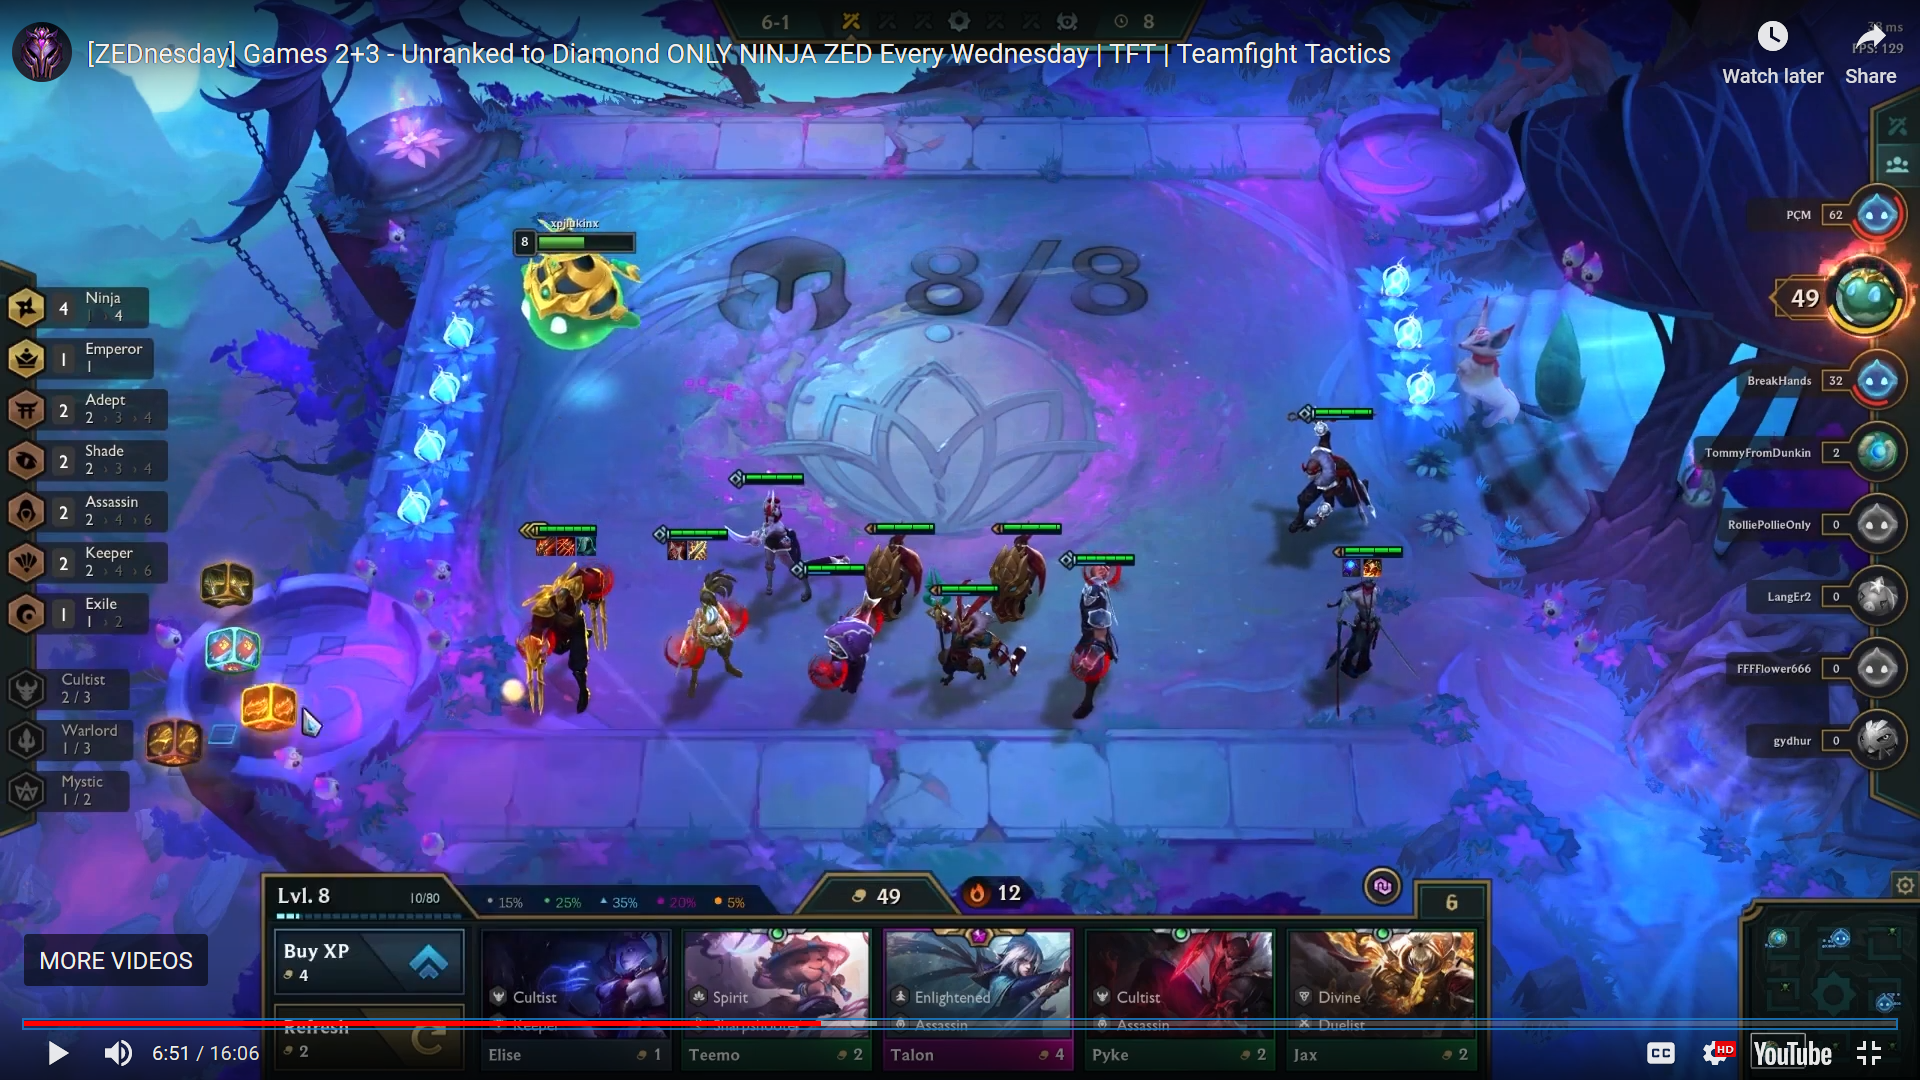1star_azir: (907, 555, 1036, 721)
1star_azirsoldier: (971, 502, 1073, 638), (847, 506, 948, 641)
1star_yone: (1299, 535, 1455, 736)
2star_akali: (640, 512, 765, 724)
2star_evelynn: (708, 454, 858, 626)
2star_kennen: (775, 547, 890, 717)
2star_pyke: (1266, 386, 1418, 560)
2star_shen: (1044, 541, 1147, 733)
3star_zed: (488, 502, 634, 735)
item_bluebuff: (1341, 554, 1364, 579)
item_quicksilver: (576, 533, 597, 558)
item_rfc: (535, 533, 556, 558)
item_runaan: (554, 531, 576, 556)
item_statikk: (686, 537, 708, 562)
item_sunfire: (1362, 554, 1385, 579)
item_zeke: (667, 539, 688, 564)
trait_adept2: (1, 386, 175, 435)
trait_assassin2: (1, 485, 175, 534)
trait_cultist2: (1, 663, 175, 712)
trait_emperor1: (1, 334, 175, 382)
trait_exile1: (1, 588, 175, 637)
trait_keeper2: (1, 535, 175, 585)
trait_mystic1: (1, 766, 175, 815)
trait_ninja4: (1, 282, 175, 331)
trait_shade2: (1, 436, 175, 487)
trait_warlord1: (1, 712, 175, 761)
